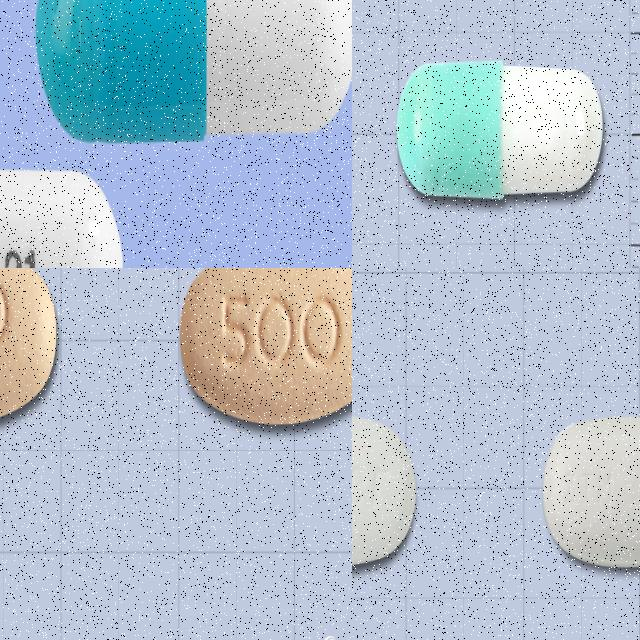Flunazole Cap: (34, 0, 352, 146)
Highloxin: (179, 268, 352, 423), (0, 268, 58, 426)
Viramid Cap-200mg: (398, 57, 604, 204)
Zyvox Tab: (544, 419, 640, 564), (352, 412, 417, 566)
